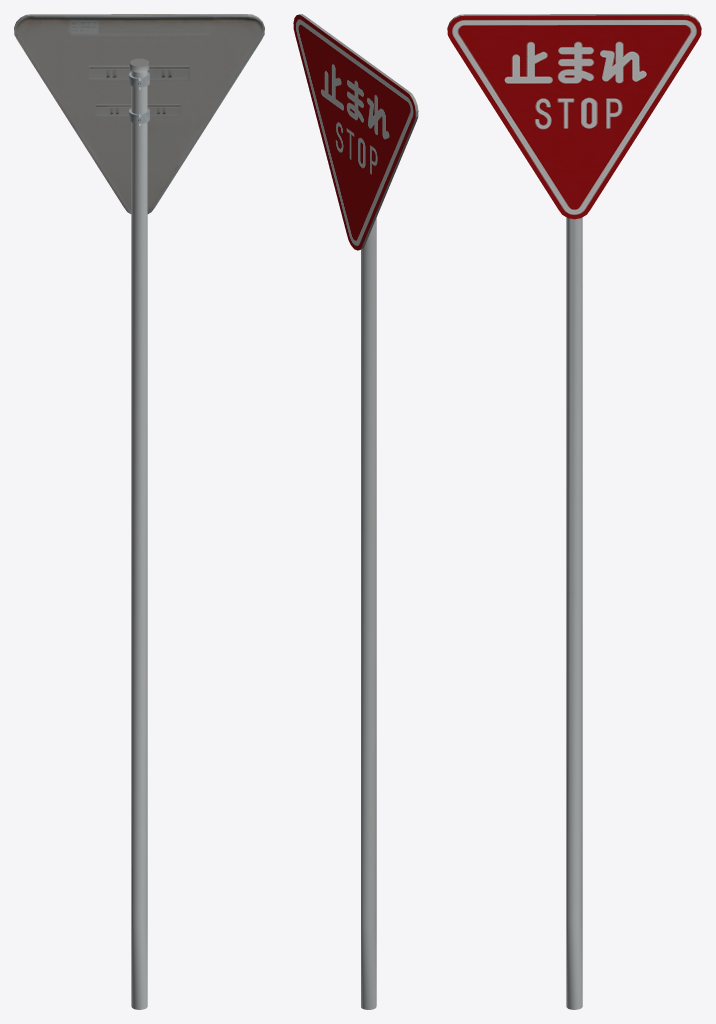
The model's file is Preset_Sign330A.fbx.
3 renders of one model, left to right at view 1: azimuth 90°, elevation 25°; view 2: azimuth 210°, elevation 25°; view 3: azimuth 270°, elevation 25°, orthographic. The views are drawn at different scales.
Parts seen in each view (by area): view 1: Sign_Backface, Sign_PoleV, Sign_BackArm; view 2: Sign330A, Sign_PoleV, Sign_Backface; view 3: Sign330A, Sign_PoleV.
Part boxes in pixels (box(x1,y1,x2,y2)): Sign_Backface: box(14, 14, 264, 213); Sign_PoleV: box(129, 58, 149, 1009); Sign_BackArm: box(89, 65, 189, 117); Sign330A: box(293, 14, 415, 250); Sign_PoleV: box(361, 218, 376, 1009); Sign_Backface: box(298, 14, 418, 250); Sign330A: box(447, 15, 701, 219); Sign_PoleV: box(566, 217, 582, 1009).
Size of the model in its own units: 9.97 by 77.07 by 334.
4 materials, 4 textured.
